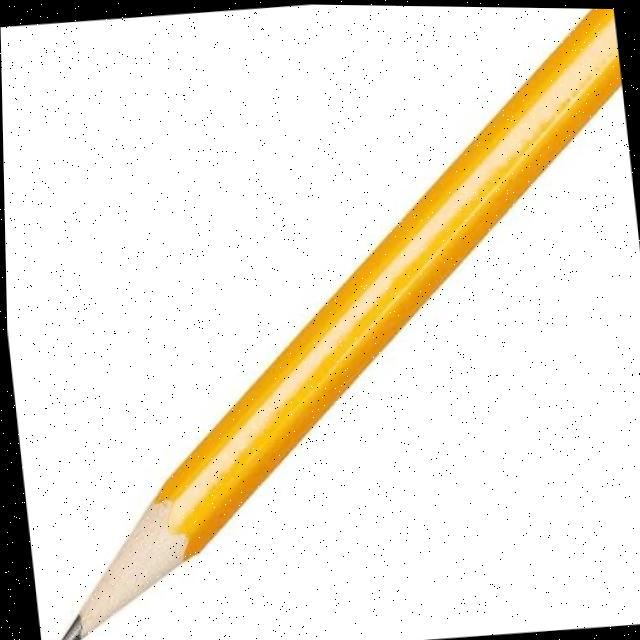pencil: (48, 7, 622, 640)
